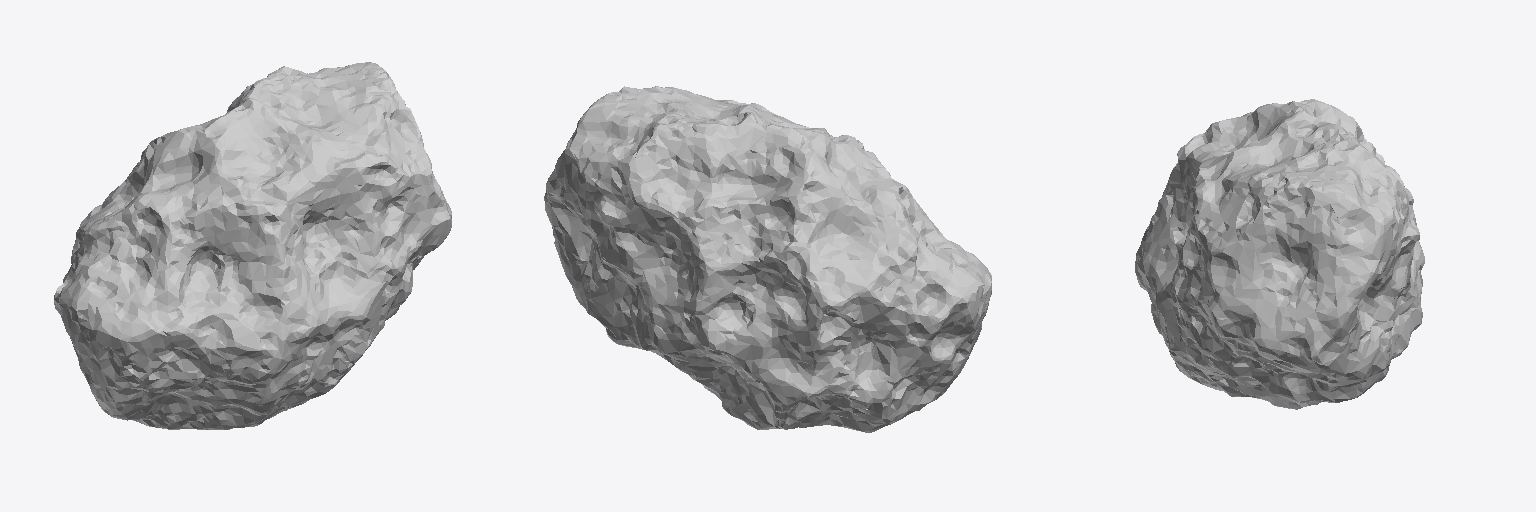
File: Asteroid_1_ULOW_MODEL_.obj
The picture shows the model from 3 angles: view 1: azimuth 30°, elevation 25°; view 2: azimuth 150°, elevation 25°; view 3: azimuth 270°, elevation 25°; orthographic projection.
Parts seen in each view (by area): view 1: ASTEROID_LOW_POLY_1__Cube.004; view 2: ASTEROID_LOW_POLY_1__Cube.004; view 3: ASTEROID_LOW_POLY_1__Cube.004.
Part boxes in pixels (left/top/right/bottom): ASTEROID_LOW_POLY_1__Cube.004: left=54, top=62, right=451, bottom=429; ASTEROID_LOW_POLY_1__Cube.004: left=544, top=86, right=991, bottom=432; ASTEROID_LOW_POLY_1__Cube.004: left=1135, top=99, right=1424, bottom=409.
Size of the model in its own units: 3.62 by 2.57 by 2.29.